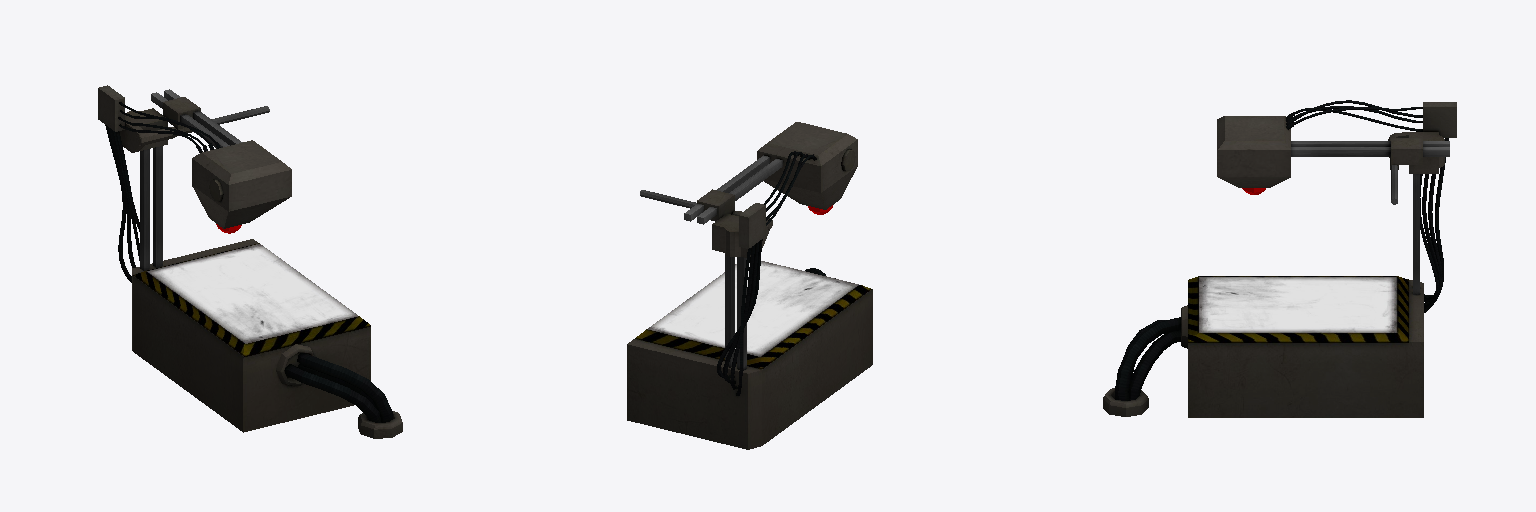
3 views of the same model, side by side, from view 1: azimuth 30°, elevation 25°; view 2: azimuth 150°, elevation 25°; view 3: azimuth 270°, elevation 25° (orthographic).
Visible parts, largest first — view 1: skin_c; view 2: skin_c; view 3: skin_c.
Part boxes in pixels (bbox=[...]): skin_c: bbox=[98, 85, 402, 438]; skin_c: bbox=[627, 122, 872, 449]; skin_c: bbox=[1103, 100, 1456, 417].
Size of the model in its own units: 5.27 by 9.35 by 11.7.
1 materials, 1 textured.